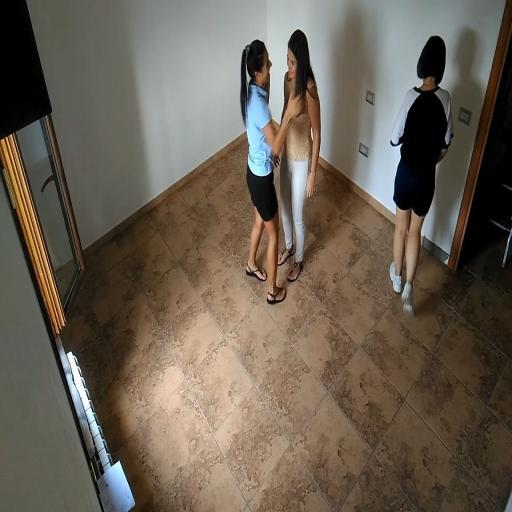nao-violencia: (212, 26, 328, 307)
